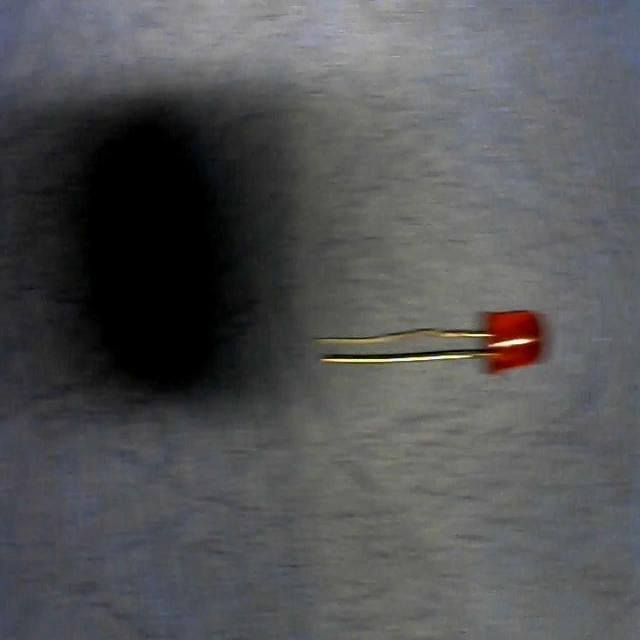LED: (311, 310, 544, 364)
